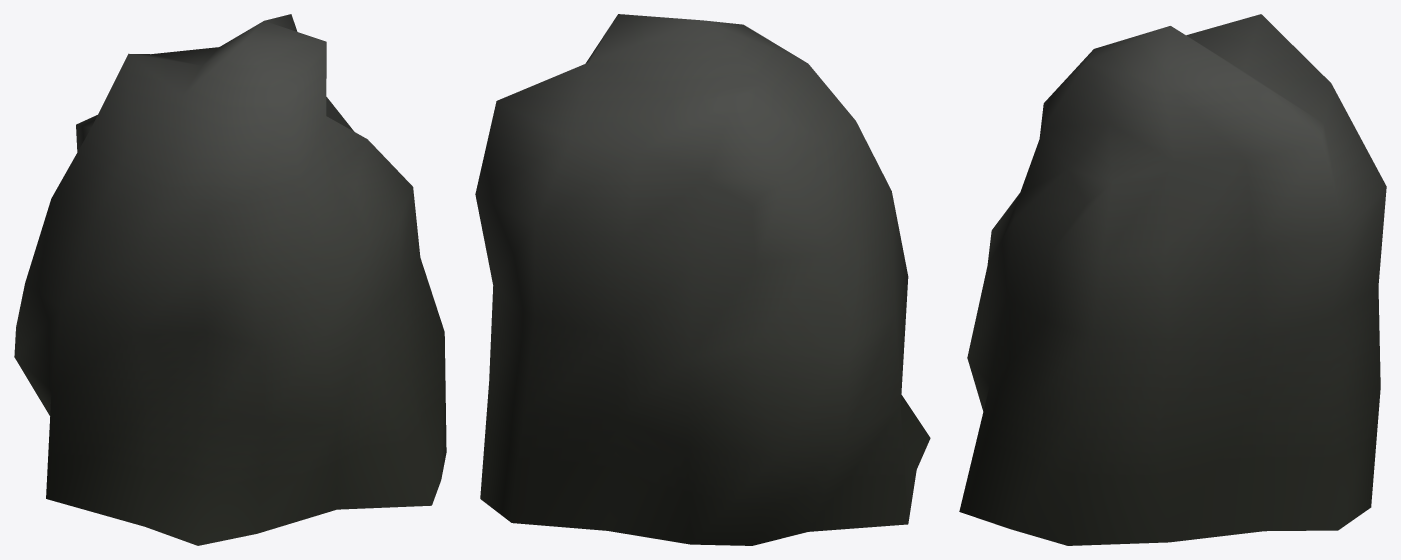
File: WE02_Brush28.fbx
3 renders of one model, left to right at view 1: azimuth 30°, elevation 25°; view 2: azimuth 150°, elevation 25°; view 3: azimuth 270°, elevation 25°, orthographic. The views are drawn at different scales.
Parts seen in each view (by area): view 1: WE02_Brush28; view 2: WE02_Brush28; view 3: WE02_Brush28.
Part boxes in pixels (box(x1,y1,x2,y2)): WE02_Brush28: box(14, 14, 446, 545); WE02_Brush28: box(475, 14, 930, 545); WE02_Brush28: box(959, 14, 1386, 545).
Bounding box in the file's own units: 5.23 × 5.74 × 5.06.
